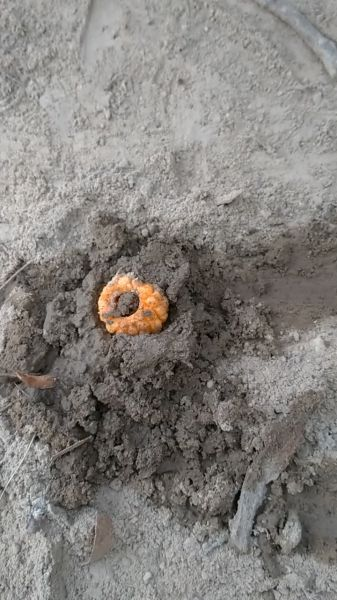eggs: (88, 268, 174, 340)
